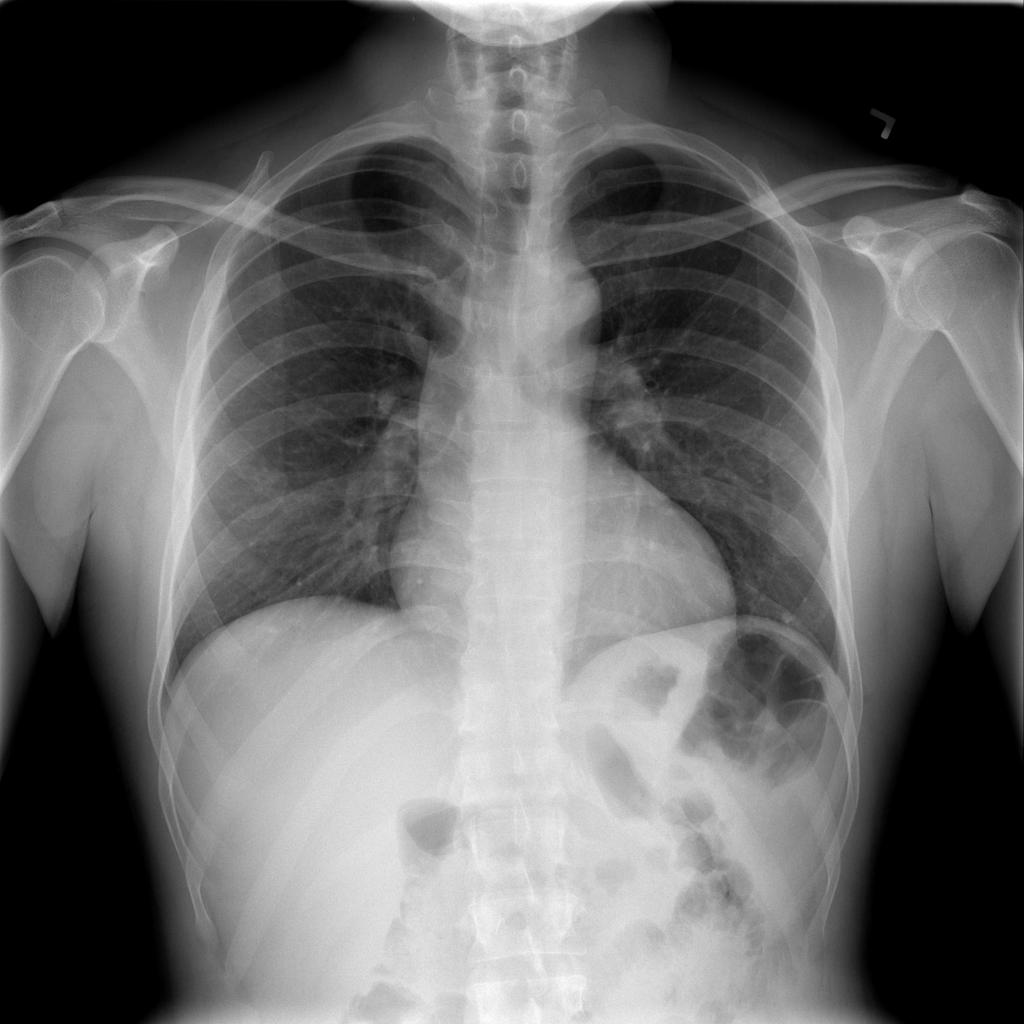nodule: (771, 599, 806, 637)
